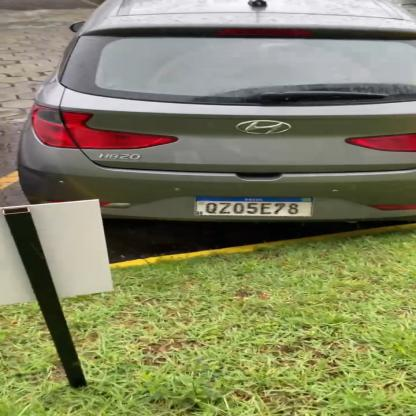Plate: (194, 191, 320, 220)
